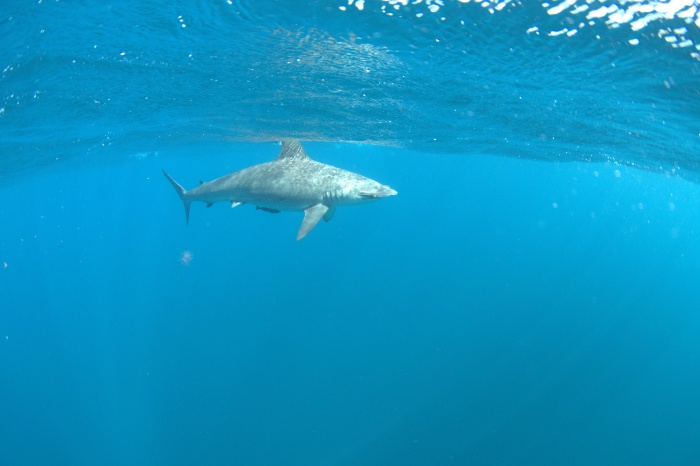Hammer: (141, 113, 429, 257)
